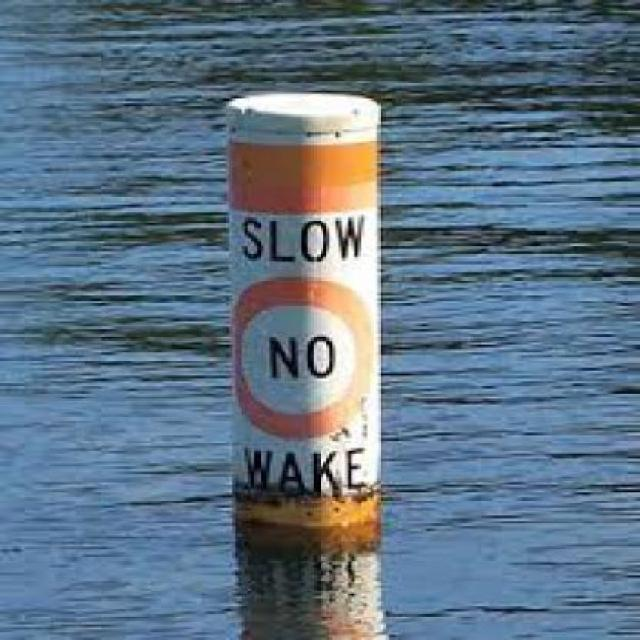buoy: (202, 77, 403, 520)
